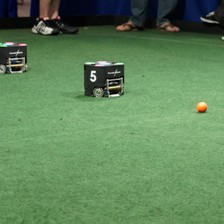ball: (195, 99, 208, 112)
robot: (81, 57, 126, 98), (1, 38, 28, 74)
